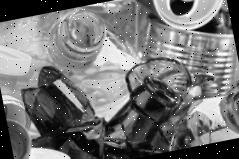glass: (15, 33, 222, 159)
